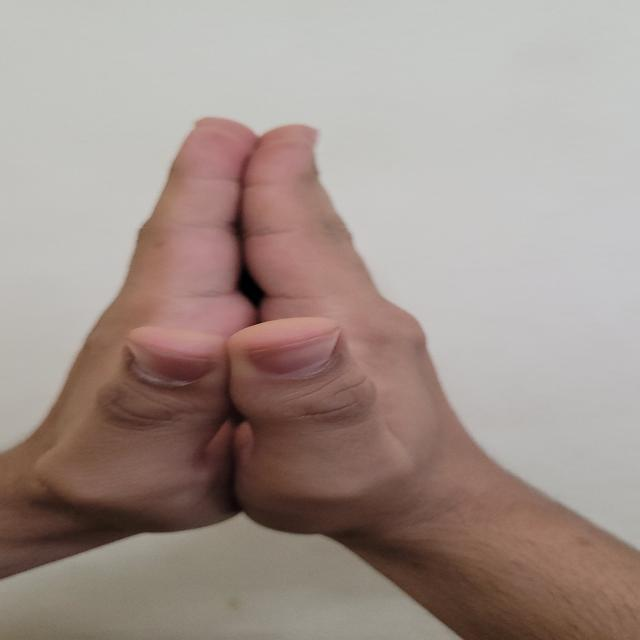Thank You: (33, 117, 504, 580)
